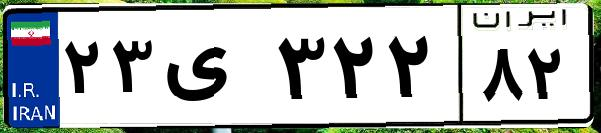2: (385, 28, 445, 110), (330, 28, 385, 110), (57, 26, 110, 100), (525, 38, 570, 115)
3: (270, 28, 330, 110), (110, 28, 158, 98)
8: (475, 38, 525, 113)
ی: (158, 20, 270, 120)
